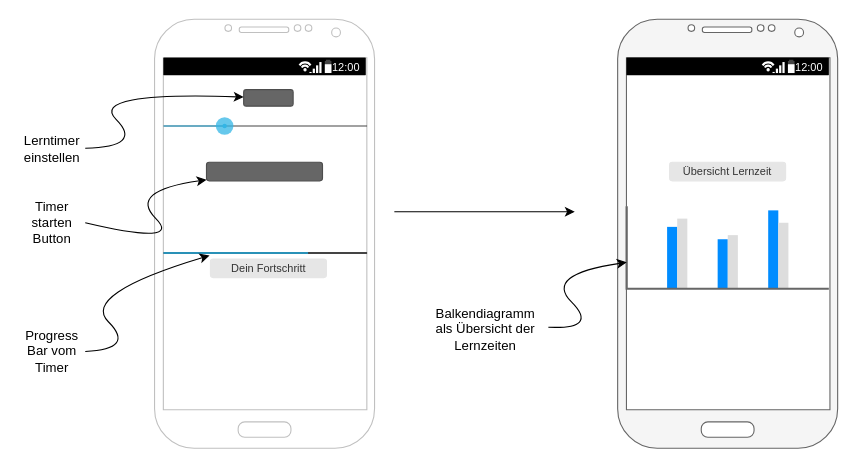
Image size: 857x468. Some labels were removed from this diagram. Here are the shapes that lost their labels. From the top down, the centre of each, then its label:
[268,97]: 20 Min
[264,171]: Start Timer
